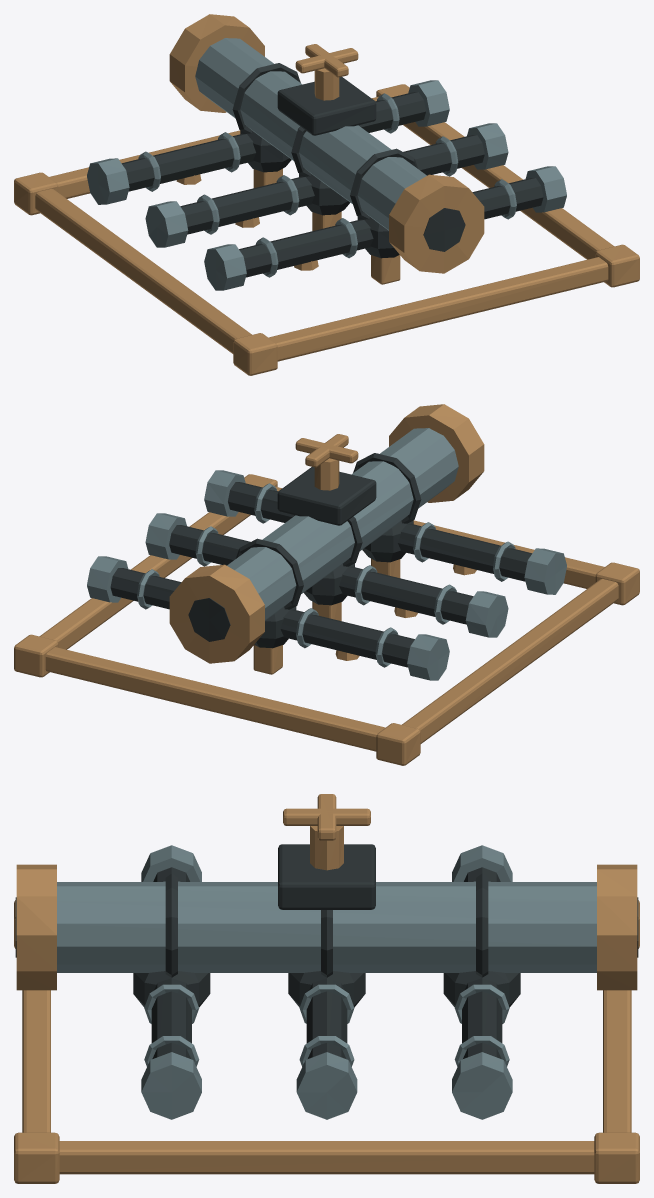
The model's file is drip-irrigation.source.glb.
3 views of the same model, one above another, from view 1: azimuth 30°, elevation 25°; view 2: azimuth 150°, elevation 25°; view 3: azimuth 270°, elevation 25° (orthographic). The views are drawn at different scales.
Visible parts, largest first — view 1: drip-irrigation-main-header-pipe-mesh, drip-irrigation-front-cross-rail-mesh, drip-irrigation-left-long-rail-mesh, drip-irrigation-front-header-socket-mesh, drip-irrigation-branch-pipe-2-mesh, drip-irrigation-branch-pipe-3-mesh, drip-irrigation-branch-pipe-1-mesh, drip-irrigation-rear-header-socket-mesh, drip-irrigation-valve-base-mesh, drip-irrigation-right-long-rail-mesh, drip-irrigation-branch-2-left-end-mesh, drip-irrigation-branch-1-left-end-mesh (+18 smaller); view 2: drip-irrigation-main-header-pipe-mesh, drip-irrigation-rear-cross-rail-mesh, drip-irrigation-left-long-rail-mesh, drip-irrigation-rear-header-socket-mesh, drip-irrigation-branch-pipe-2-mesh, drip-irrigation-branch-pipe-1-mesh, drip-irrigation-branch-pipe-3-mesh, drip-irrigation-front-header-socket-mesh, drip-irrigation-valve-base-mesh, drip-irrigation-right-long-rail-mesh, drip-irrigation-branch-2-left-end-mesh, drip-irrigation-branch-3-left-end-mesh (+18 smaller); view 3: drip-irrigation-main-header-pipe-mesh, drip-irrigation-right-long-rail-mesh, drip-irrigation-valve-base-mesh, drip-irrigation-front-header-socket-mesh, drip-irrigation-rear-header-socket-mesh, drip-irrigation-front-cross-rail-mesh, drip-irrigation-rear-cross-rail-mesh, drip-irrigation-branch-2-right-end-mesh, drip-irrigation-branch-1-right-end-mesh, drip-irrigation-branch-3-right-end-mesh, drip-irrigation-branch-pipe-1-mesh, drip-irrigation-branch-pipe-3-mesh (+20 smaller).
Boxes of the visible parts, box(x1,y1,x2,y2) form: drip-irrigation-main-header-pipe-mesh: box(195, 38, 426, 230); drip-irrigation-front-cross-rail-mesh: box(268, 257, 608, 361); drip-irrigation-left-long-rail-mesh: box(35, 189, 251, 353); drip-irrigation-front-header-socket-mesh: box(389, 174, 484, 273); drip-irrigation-branch-pipe-2-mesh: box(180, 135, 484, 234); drip-irrigation-branch-pipe-3-mesh: box(239, 178, 543, 277); drip-irrigation-branch-pipe-1-mesh: box(121, 92, 425, 191); drip-irrigation-rear-header-socket-mesh: box(169, 14, 264, 112); drip-irrigation-valve-base-mesh: box(277, 77, 376, 135); drip-irrigation-right-long-rail-mesh: box(403, 122, 614, 259); drip-irrigation-branch-2-left-end-mesh: box(145, 201, 188, 247); drip-irrigation-branch-1-left-end-mesh: box(87, 158, 129, 204); drip-irrigation-main-header-pipe-mesh: box(227, 428, 458, 620); drip-irrigation-rear-cross-rail-mesh: box(45, 647, 385, 751); drip-irrigation-left-long-rail-mesh: box(402, 579, 618, 743); drip-irrigation-rear-header-socket-mesh: box(169, 564, 264, 663); drip-irrigation-branch-pipe-2-mesh: box(169, 525, 473, 624); drip-irrigation-branch-pipe-1-mesh: box(110, 568, 414, 667); drip-irrigation-branch-pipe-3-mesh: box(228, 482, 532, 581); drip-irrigation-front-header-socket-mesh: box(389, 404, 484, 502); drip-irrigation-valve-base-mesh: box(277, 467, 376, 525); drip-irrigation-right-long-rail-mesh: box(39, 512, 250, 649); drip-irrigation-branch-2-left-end-mesh: box(465, 591, 508, 637); drip-irrigation-branch-3-left-end-mesh: box(524, 548, 566, 594); drip-irrigation-main-header-pipe-mesh: box(57, 882, 596, 972); drip-irrigation-right-long-rail-mesh: box(59, 1141, 594, 1174); drip-irrigation-valve-base-mesh: box(278, 844, 375, 909); drip-irrigation-front-header-socket-mesh: box(16, 864, 56, 990); drip-irrigation-rear-header-socket-mesh: box(597, 864, 637, 990); drip-irrigation-front-cross-rail-mesh: box(22, 990, 50, 1132); drip-irrigation-rear-cross-rail-mesh: box(603, 990, 631, 1132); drip-irrigation-branch-2-right-end-mesh: box(296, 1052, 357, 1119); drip-irrigation-branch-1-right-end-mesh: box(452, 1052, 512, 1119); drip-irrigation-branch-3-right-end-mesh: box(141, 1052, 201, 1119); drip-irrigation-branch-pipe-1-mesh: box(462, 867, 502, 1058); drip-irrigation-branch-pipe-3-mesh: box(151, 867, 191, 1058).
Size of the model in its own units: 3.55 by 1.62 by 3.71.
